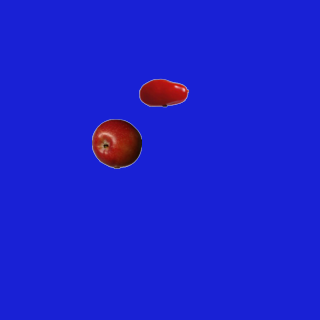Apple Braeburn: (91, 118, 141, 168)
Tomato 2: (138, 67, 188, 117)
